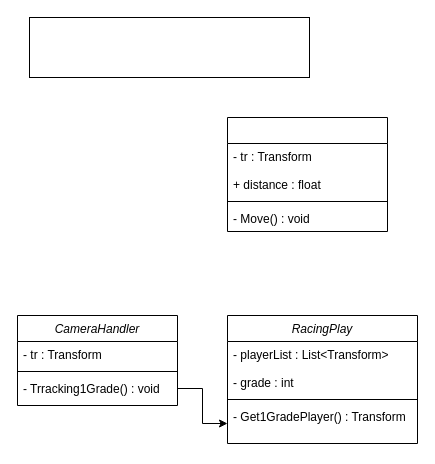
Image size: 435x464. Some labels were removed from this diagram. The shapes that lost their labels are listed below. From the top down, each one's box as (x1, y1, x2, y2) in pixels, then its label:
(28, 16, 310, 78): 1. PlayerMove : 플레이어 이동 스크립트 2. CameraHandler : 카메라 제어 삼.
(226, 116, 388, 232): PlayerMove
